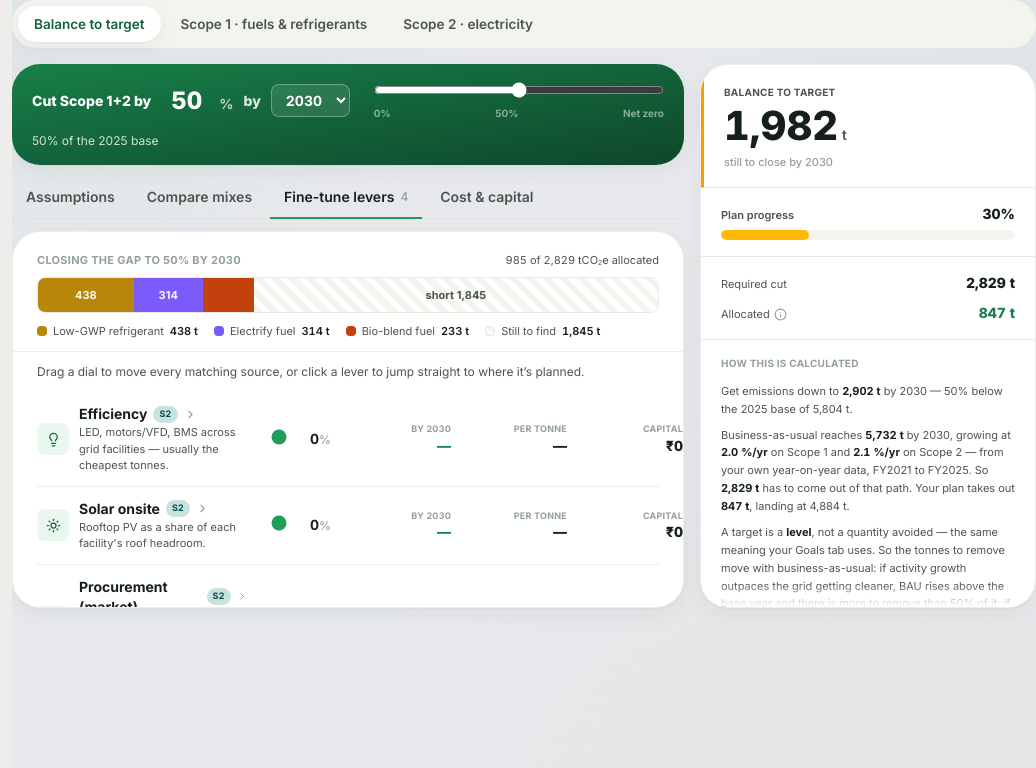
it: Assumptions sub-tab › reset clears BOTH overrides rather than freezing the derived numbers
Click the tab "Assumptions": (70, 198) x1=12 y1=177 x2=129 y2=219
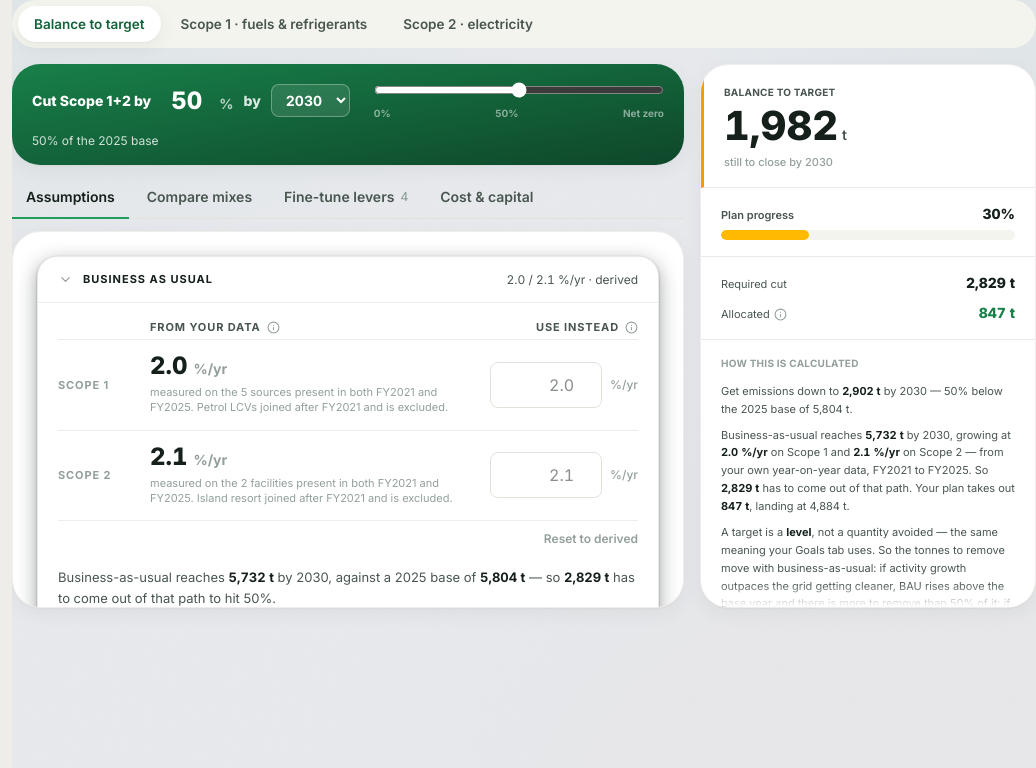
In the number field named "Scope 1 BAU growth override": (546, 385) x1=490 y1=362 x2=602 y2=408, type "9"
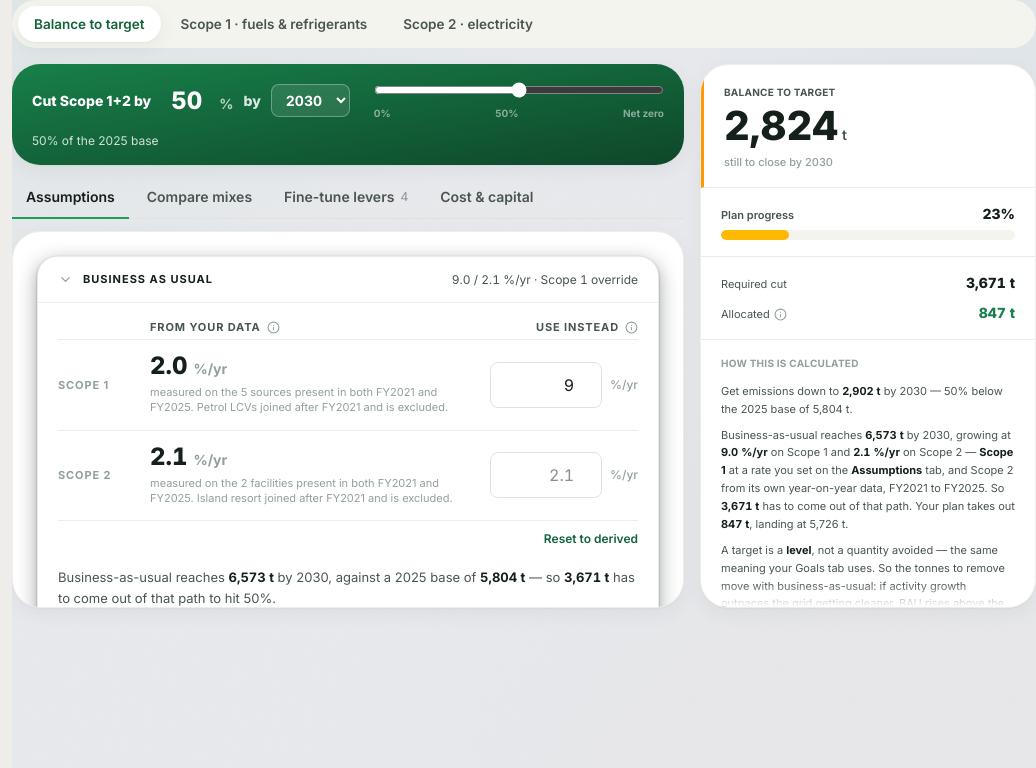
In the number field named "Scope 2 BAU growth override": (546, 475) x1=490 y1=452 x2=602 y2=498, type "4"
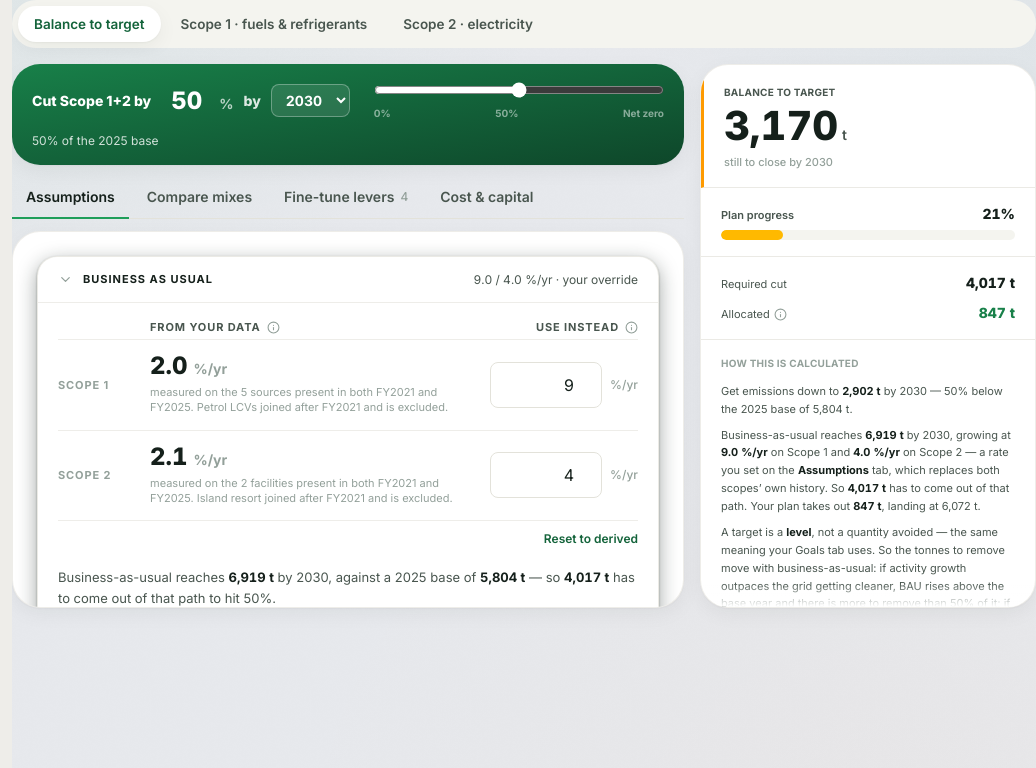
Click the button "Reset to derived": (591, 539) x1=544 y1=531 x2=638 y2=547
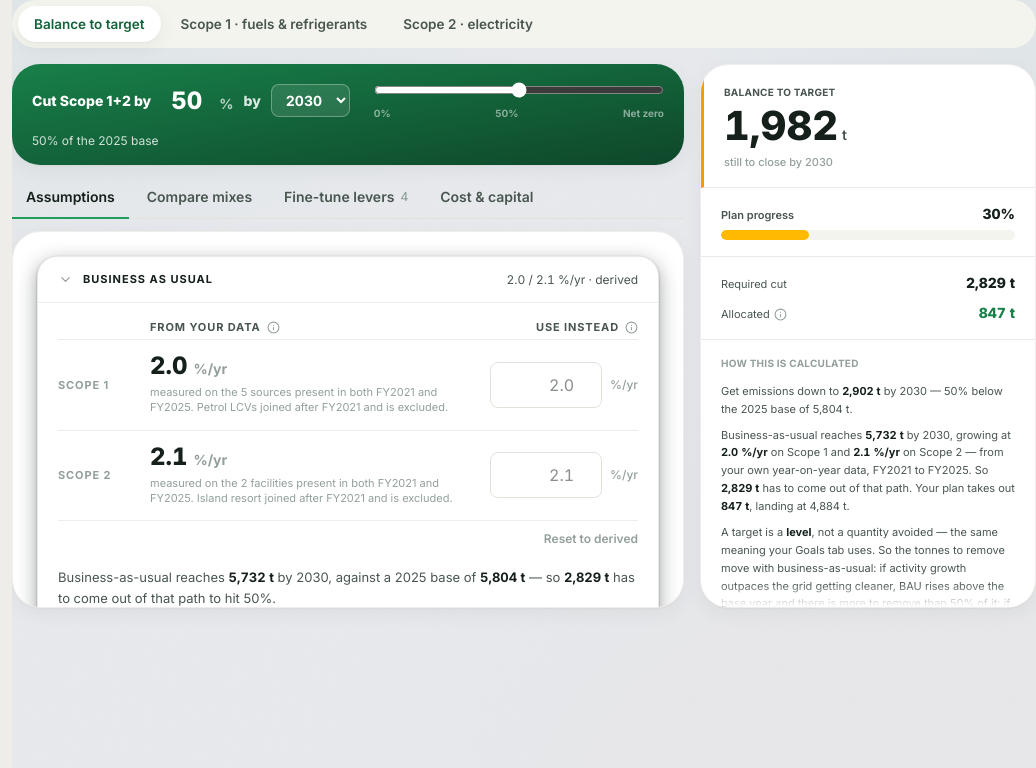
Check: the number field named "Scope 1 BAU growth override" is empty, box x1=490 y1=362 x2=602 y2=408
Check: the number field named "Scope 2 BAU growth override" is empty, box x1=490 y1=452 x2=602 y2=498
